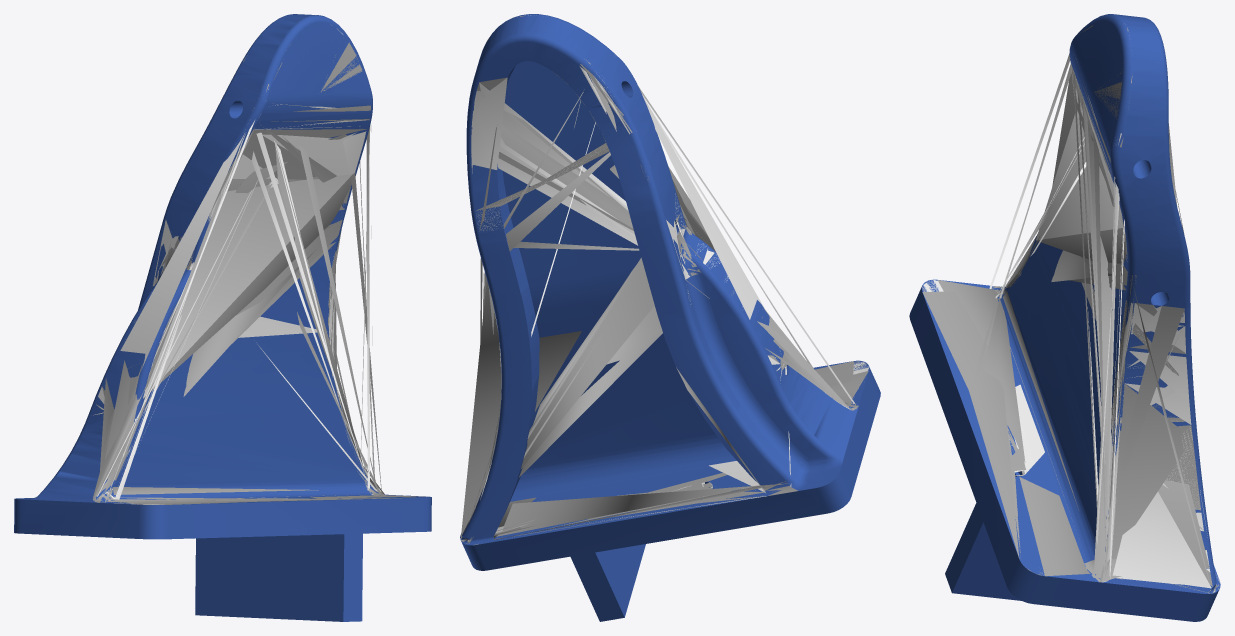
3 renders of one model, left to right at view 1: azimuth 30°, elevation 25°; view 2: azimuth 150°, elevation 25°; view 3: azimuth 270°, elevation 25°, orthographic. The views are drawn at different scales.
Parts seen in each view (by area): view 1: node0, node2, node1; view 2: node0, node1, node2; view 3: node0, node1, node2.
Boxes of the visible parts, x1,y1,x2,y2 form: node0: (14,14,431,621); node2: (93,29,377,504); node1: (34,15,426,504); node0: (460,14,880,621); node1: (460,15,868,544); node2: (461,15,868,541); node0: (909,14,1220,621); node1: (922,25,1220,593); node2: (923,53,1218,593).
Bounding box in the file's own units: 0.0653 × 0.0946 × 0.0419.
